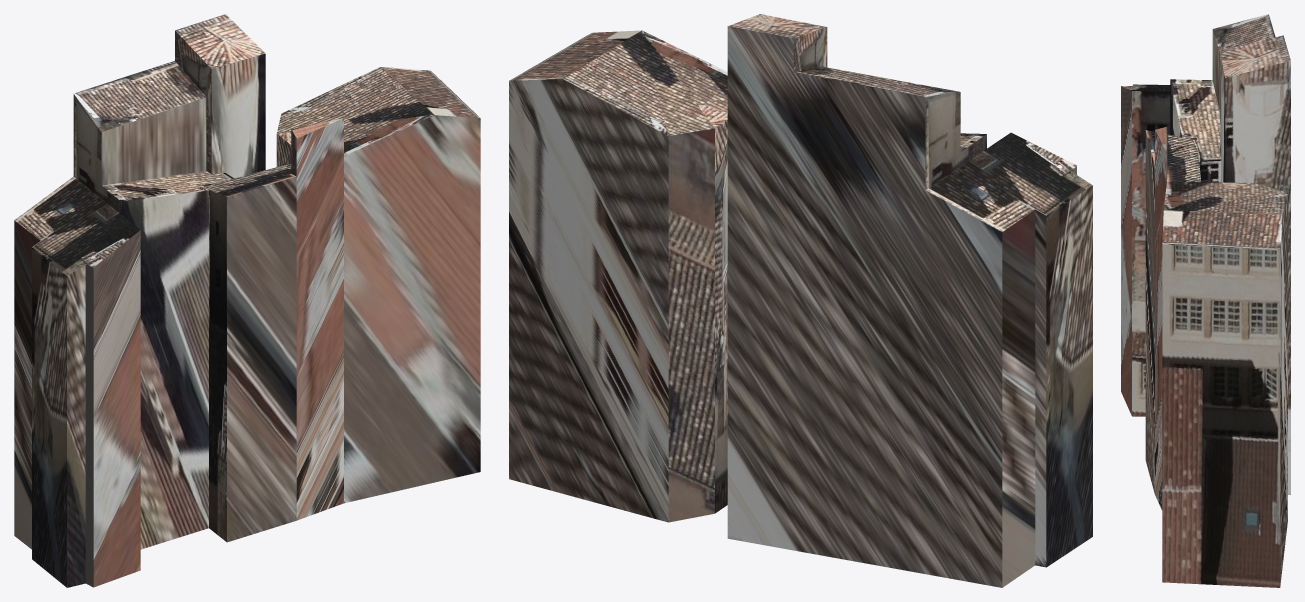
The picture shows the model from 3 angles, left to right: view 1: azimuth 30°, elevation 25°; view 2: azimuth 150°, elevation 25°; view 3: azimuth 270°, elevation 25°; orthographic projection. The views are drawn at different scales.
Parts seen in each view (by area): view 1: Z_UP; view 2: Z_UP; view 3: Z_UP.
Boxes of the visible parts, <box> form: Z_UP: <box>14,14,480,587</box>; Z_UP: <box>509,14,1092,587</box>; Z_UP: <box>1121,14,1290,587</box>.
Size of the model in its own units: 26.22 by 25.84 by 9.15.
Materials: 2 (1 with a texture image).
